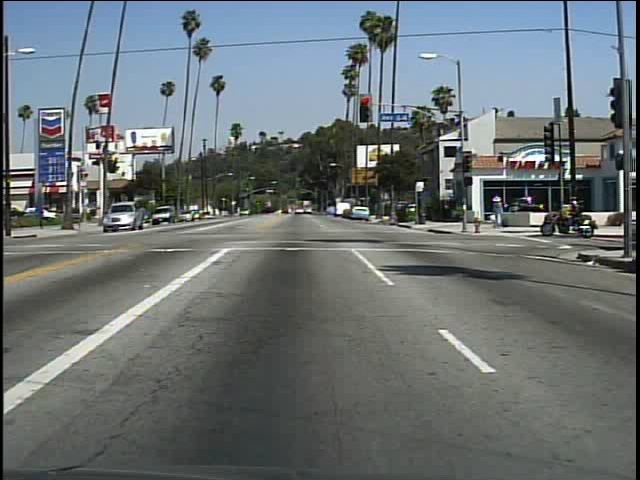person: (559, 194, 585, 235), (491, 191, 508, 228)
